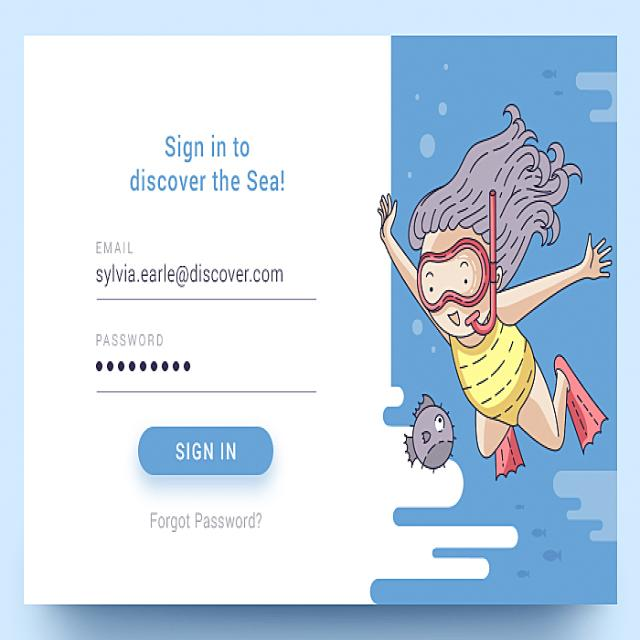Button: (138, 422, 275, 482)
Container: (20, 29, 621, 612)
Input-field: (92, 320, 324, 408), (90, 233, 323, 310)
Text: (127, 111, 294, 206), (146, 507, 265, 531)
